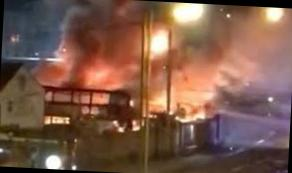Smoke: (57, 0, 251, 113), (53, 0, 143, 90)
